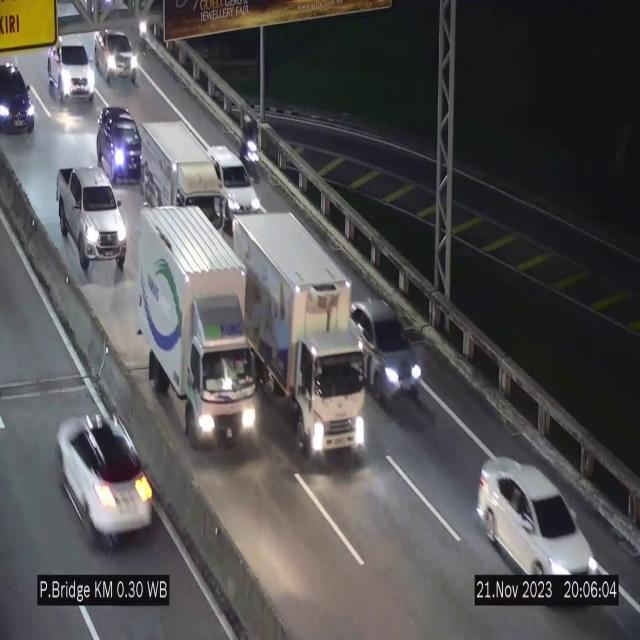Car: (39, 383, 161, 564), (476, 458, 601, 576), (53, 164, 129, 275), (352, 286, 421, 406), (207, 143, 261, 217), (97, 106, 144, 183), (46, 38, 97, 102), (92, 29, 140, 86), (0, 68, 36, 134)
Motorcycle: (241, 115, 263, 189)
Truck: (228, 207, 371, 463), (134, 204, 264, 458), (138, 113, 228, 232)
